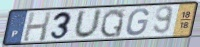3: (49, 10, 75, 42)
9: (152, 5, 175, 38)
G: (124, 8, 150, 37)
H: (22, 11, 54, 43)
Q: (99, 8, 126, 39)
U: (72, 8, 104, 40)
